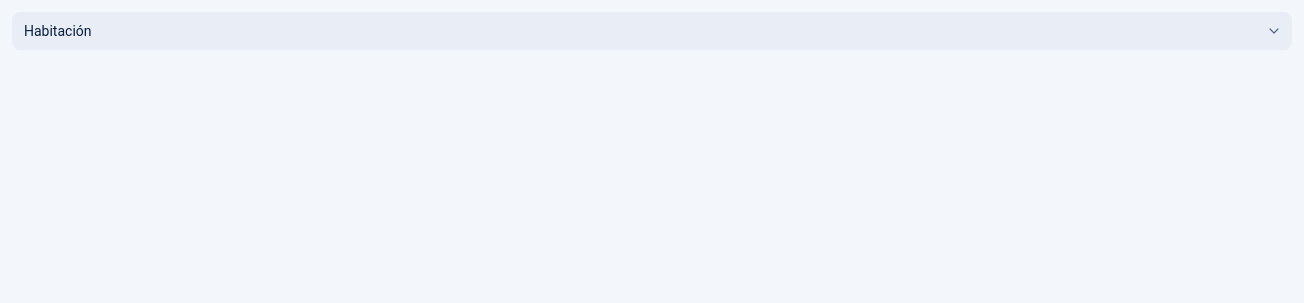
choosing an option reports it and closes the list
This screenshot has width=1304, height=303.
Click the dropdown named "Tipo". click: (58,31)
box: left=12, top=12, right=1292, bottom=50
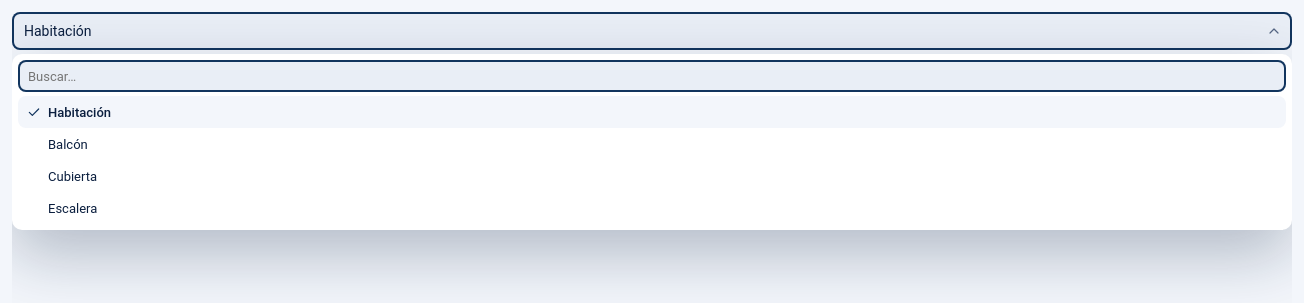
Click the option "Escalera". click: (73,208)
box: left=48, top=200, right=97, bottom=216
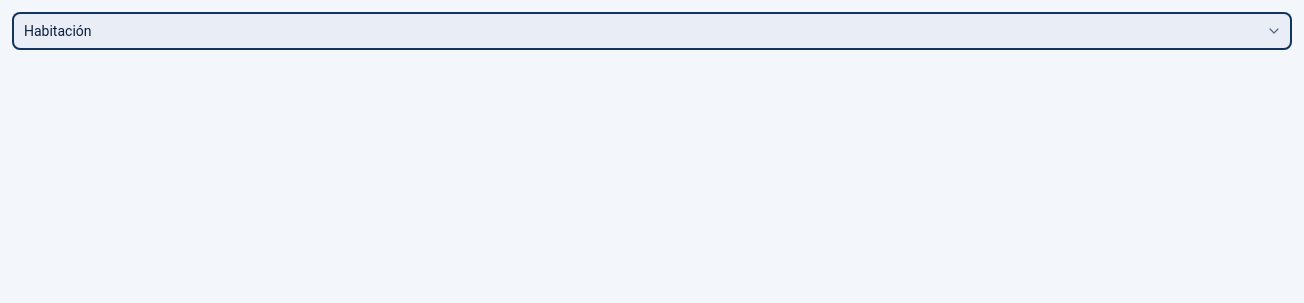
expect the list is gone: met
